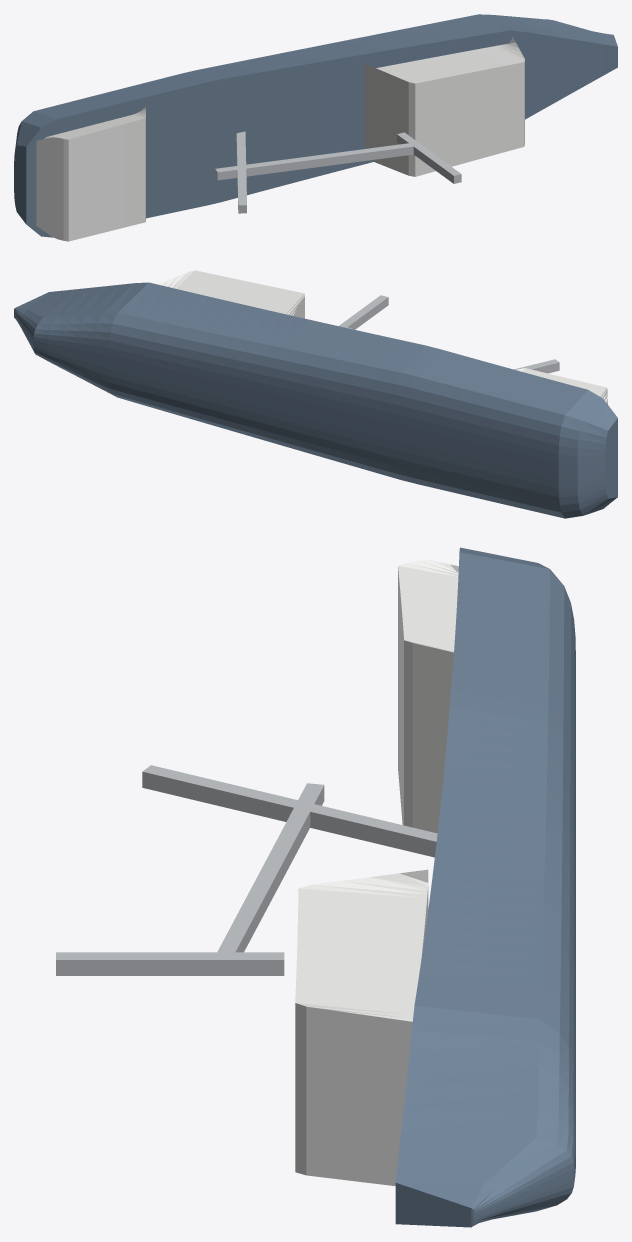
The model's file is loft-seiner-slender.glb.
The picture shows the model from 3 angles, top to bottom: view 1: azimuth 30°, elevation 25°; view 2: azimuth 150°, elevation 25°; view 3: azimuth 270°, elevation 25°; orthographic projection. The views are drawn at different scales.
Parts seen in each view (by area): view 1: seiner-loft-slender; view 2: seiner-loft-slender; view 3: seiner-loft-slender.
Boxes of the visible parts, x1,y1,x2,y2 form: seiner-loft-slender: (14, 14, 617, 241); seiner-loft-slender: (14, 270, 617, 518); seiner-loft-slender: (56, 547, 575, 1227).
Bounding box in the file's own units: 1.84 × 0.3671 × 0.7019.
